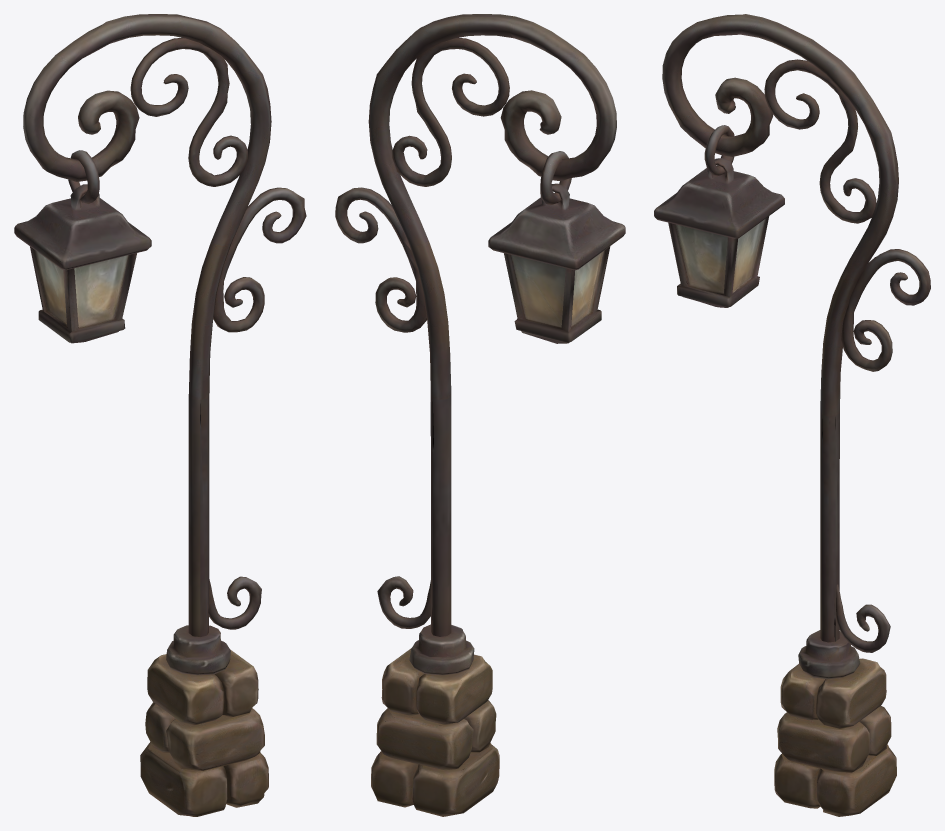
The model's file is street_lamp.glb.
3 views of the same model, side by side, from view 1: azimuth 30°, elevation 25°; view 2: azimuth 150°, elevation 25°; view 3: azimuth 330°, elevation 25° (orthographic). The views are drawn at different scales.
Parts seen in each view (by area): view 1: geometry_0; view 2: geometry_0; view 3: geometry_0.
Boxes of the visible parts, x1,y1,x2,y2 form: geometry_0: (14, 14, 306, 816); geometry_0: (335, 14, 625, 816); geometry_0: (654, 14, 930, 816).
Size of the model in its own units: 0.3501 by 0.9507 by 0.1089.
1 material, 1 textured.
